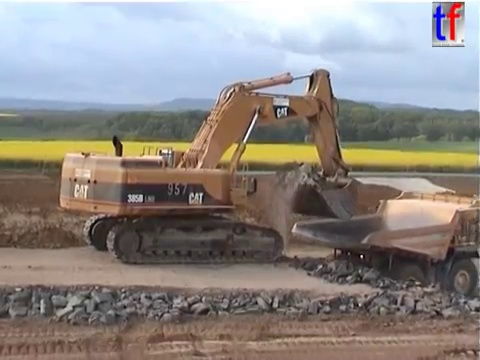excavator: (56, 66, 360, 266)
truck: (288, 188, 480, 307)
